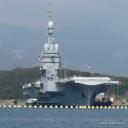Portanaves: (23, 2, 123, 110)
